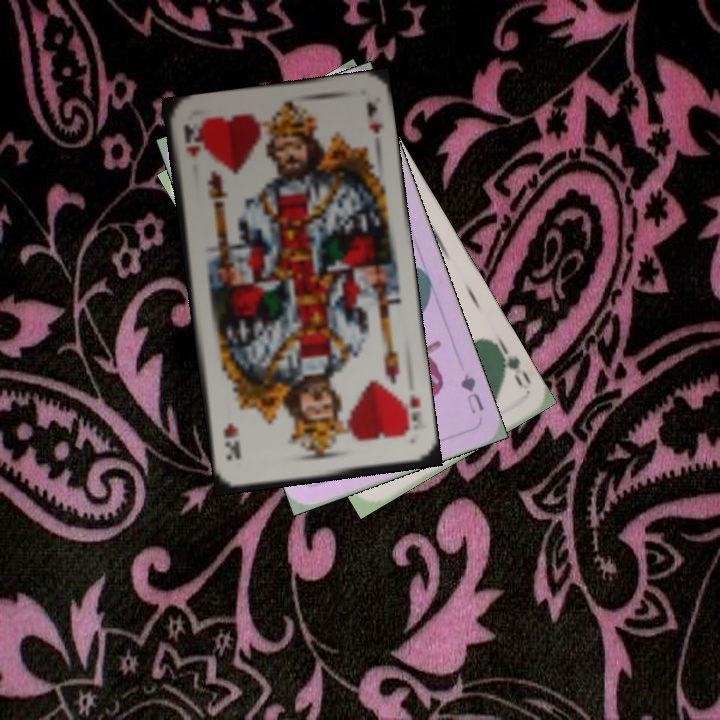GO: (489, 336, 534, 392)
GU: (456, 369, 487, 417)
HK: (397, 389, 424, 439), (179, 120, 203, 159)
